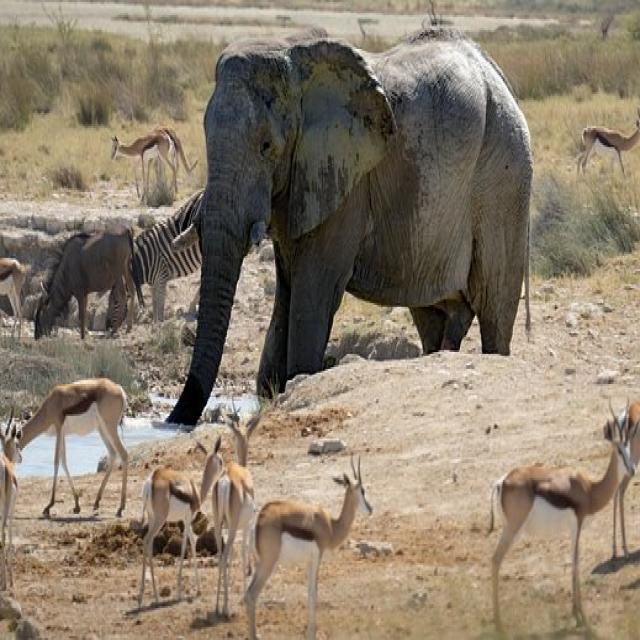Elephant: (157, 19, 551, 450)
